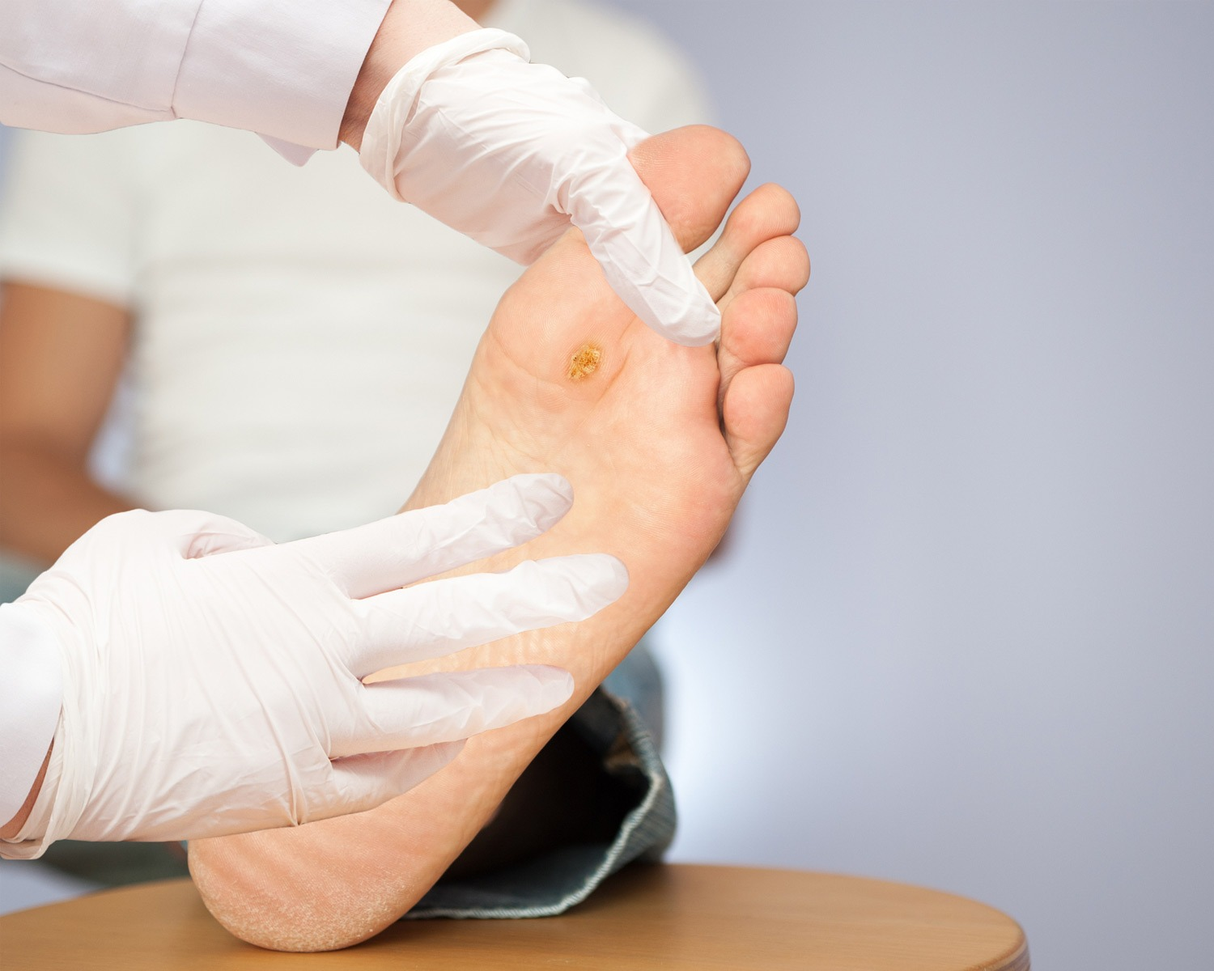Warts: (546, 323, 626, 417)
